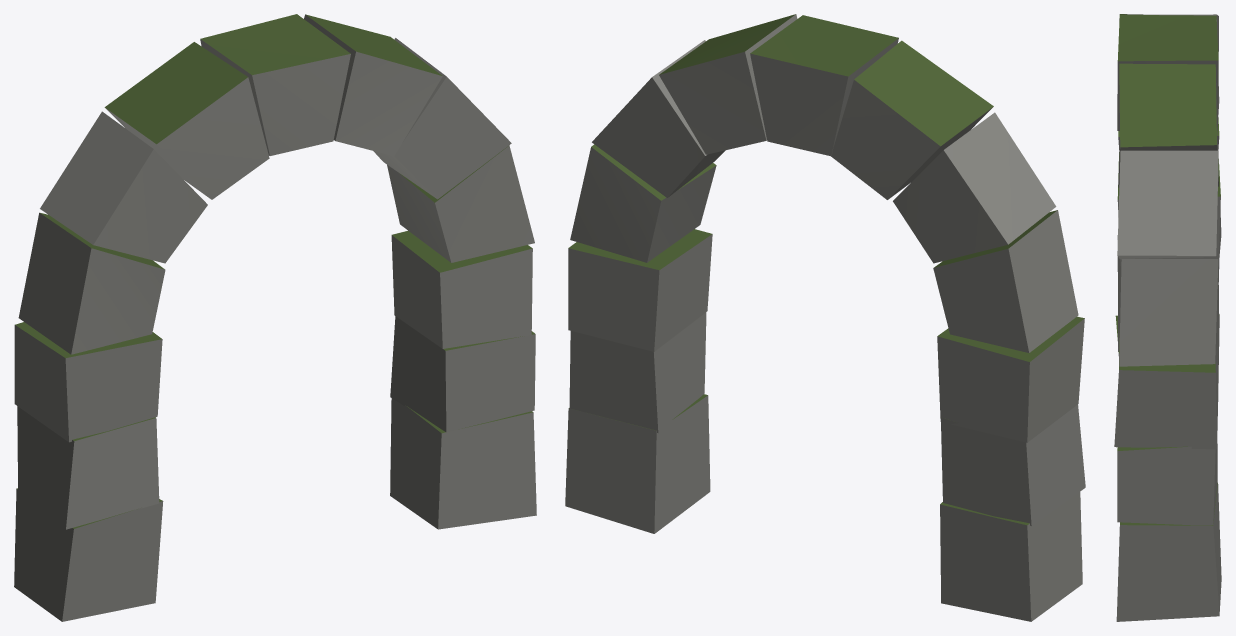
Rendered from Arch.fbx.
3 renders of one model, left to right at view 1: azimuth 30°, elevation 25°; view 2: azimuth 150°, elevation 25°; view 3: azimuth 270°, elevation 25°, orthographic. The views are drawn at different scales.
Parts seen in each view (by area): view 1: Arch; view 2: Arch; view 3: Arch.
Part boxes in pixels (x1,y1,x2,y2): Arch: (14, 14, 536, 621); Arch: (565, 14, 1085, 621); Arch: (1114, 14, 1221, 621).
Bounding box in the file's own units: 3.14 × 3.25 × 0.6602.
